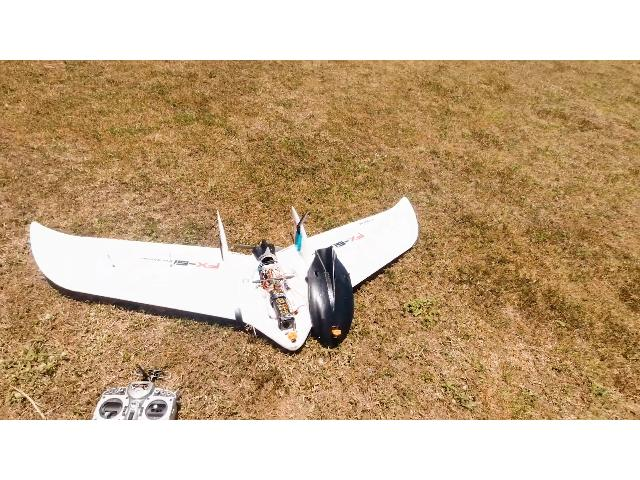Anti-Drone: (20, 170, 446, 365)
